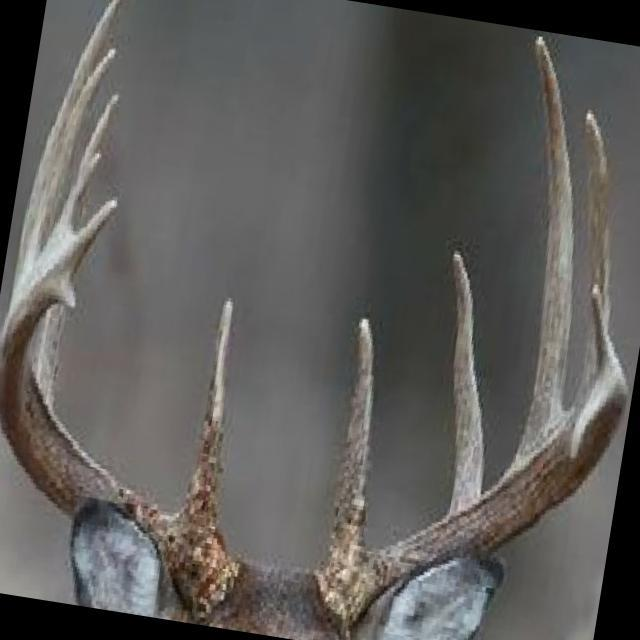E1: (42, 152, 102, 251)
E2: (48, 277, 77, 311)
E3: (590, 283, 622, 376)
L-F: (312, 376, 629, 629)
L-G1: (327, 315, 376, 568)
L-G2: (449, 250, 485, 511)
L-G3: (518, 35, 573, 451)
R-F: (0, 196, 241, 625)
R-G1: (175, 295, 235, 542)
